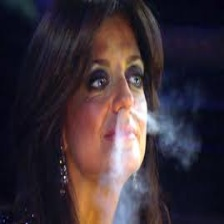smoke: (113, 136, 139, 192)
